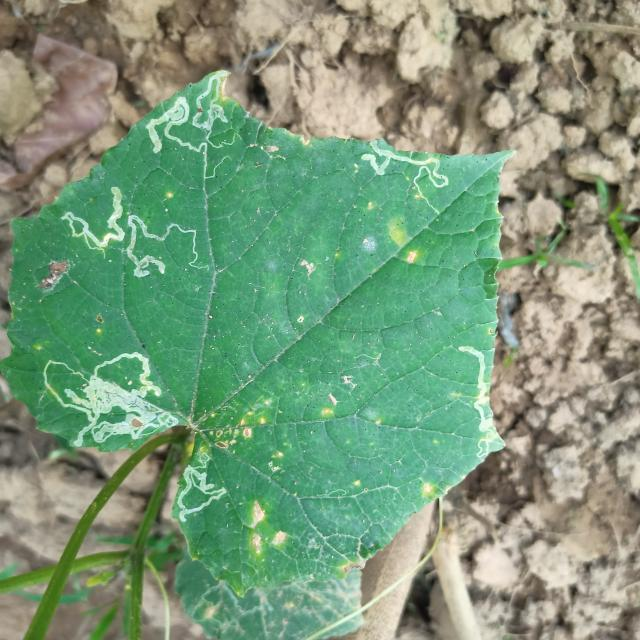disease_cucumber: (215, 393, 275, 449), (243, 495, 287, 555), (380, 208, 424, 266)
